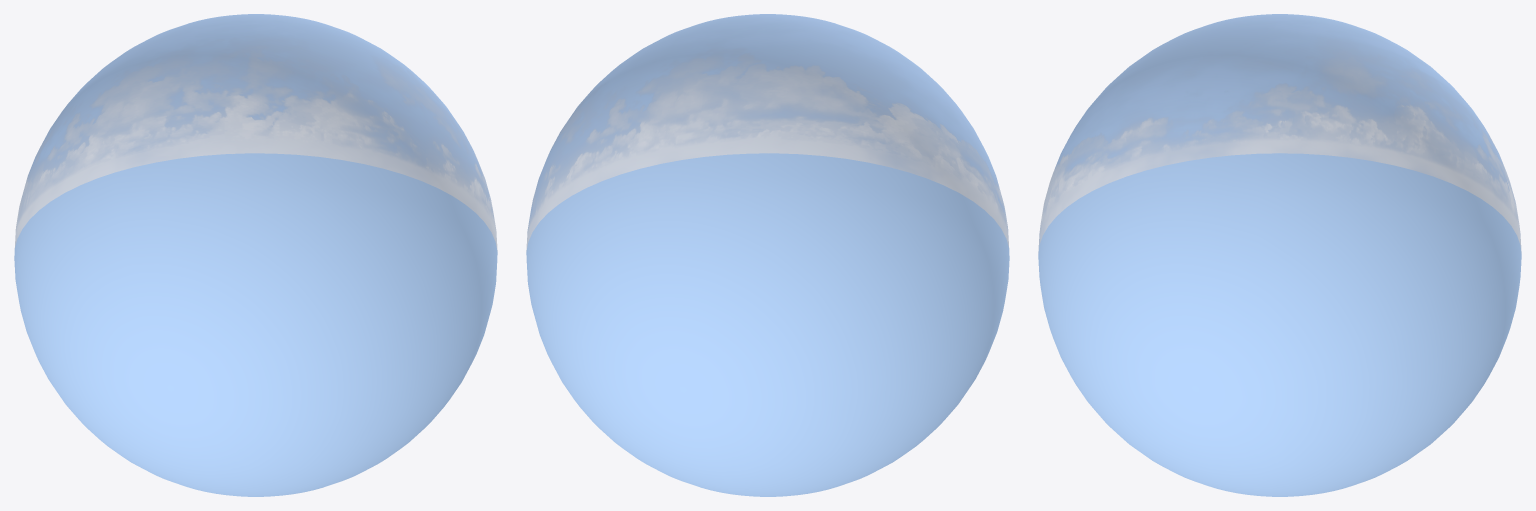
The model's file is LS_SekiroGroundGrapple.gltf.
3 renders of one model, left to right at view 1: azimuth 30°, elevation 25°; view 2: azimuth 150°, elevation 25°; view 3: azimuth 270°, elevation 25°, orthographic.
Visible parts, largest first — view 1: SkySphereMesh; view 2: SkySphereMesh; view 3: SkySphereMesh.
Part boxes in pixels (bbox=[...]): SkySphereMesh: bbox=[14, 14, 497, 496]; SkySphereMesh: bbox=[526, 14, 1009, 496]; SkySphereMesh: bbox=[1038, 14, 1521, 496].
Bounding box in the file's own units: 32768 × 32768 × 32768.
